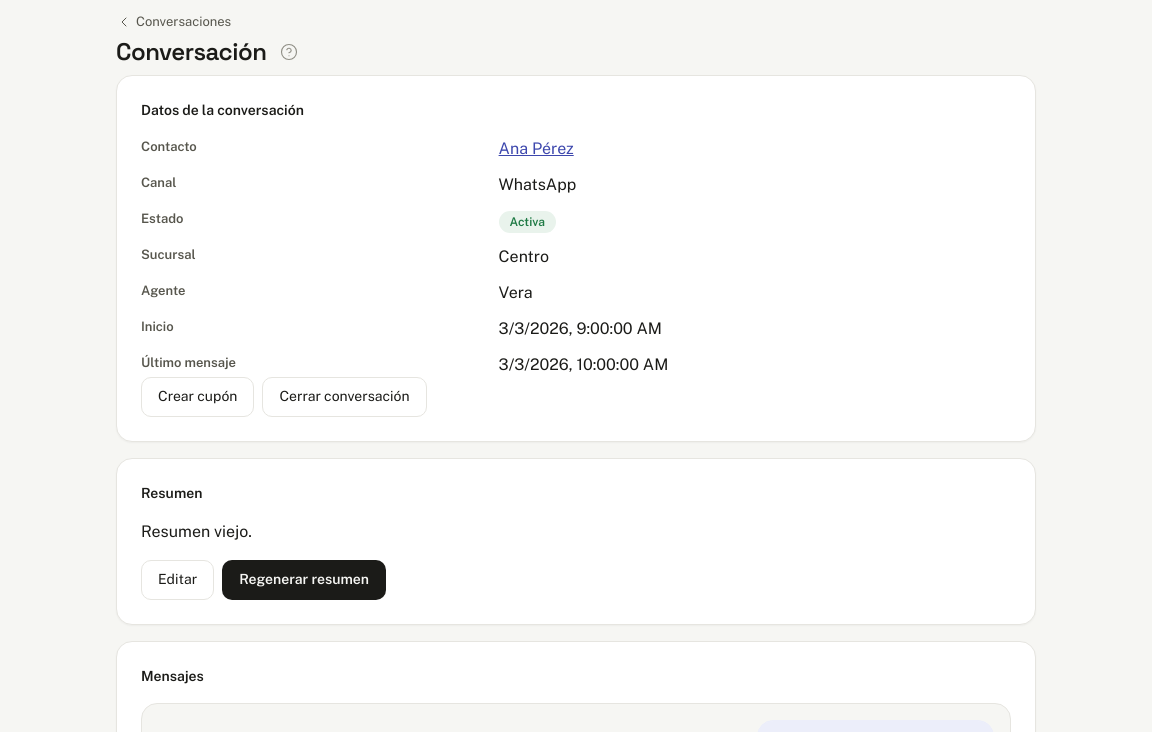
Test: ConversationDetail › guardar el textarea vacío manda null y vuelve a ofrecer generarlo
Click the button "Editar" at (178, 580), box left=141, top=560, right=214, bottom=600
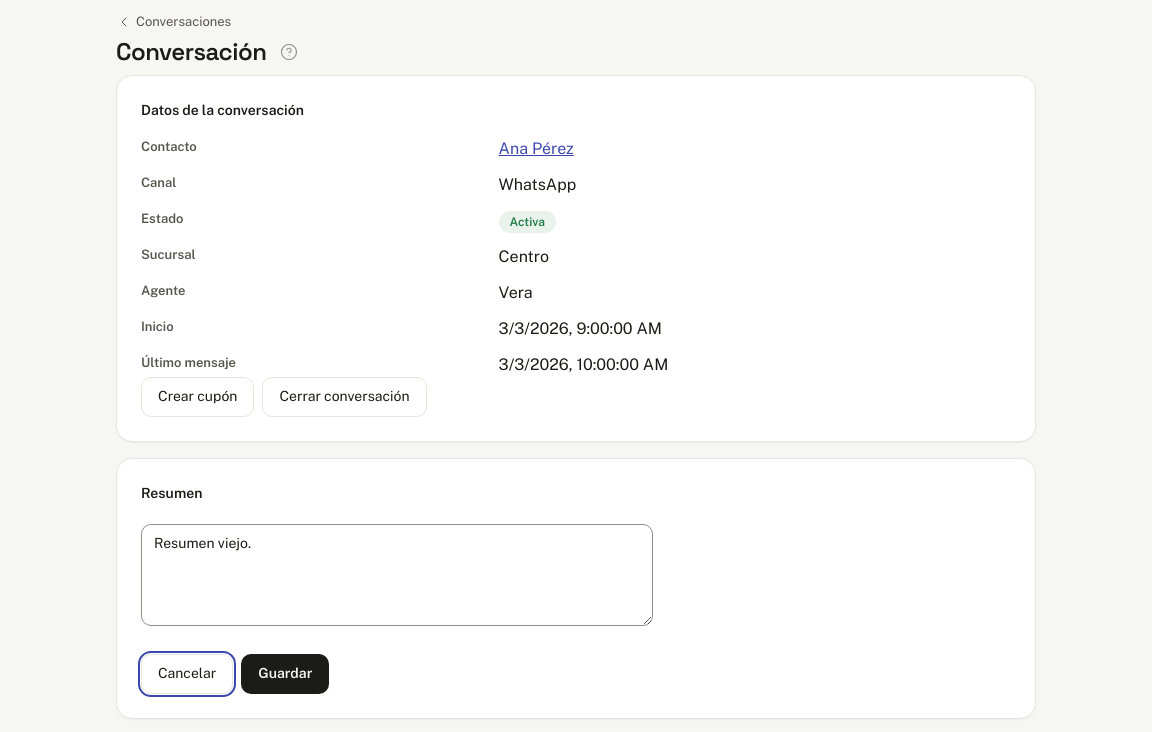
Clear the text box named "Resumen de la conversación" at (397, 575), box left=141, top=524, right=653, bottom=626
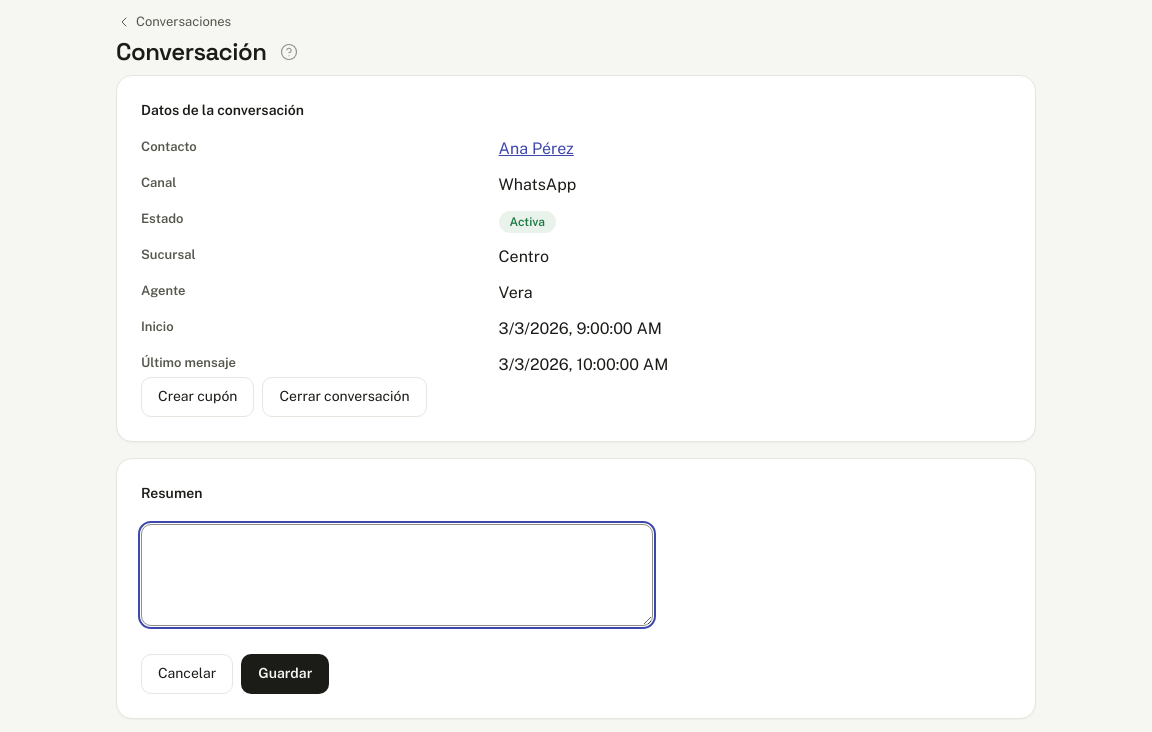
Click the button "Guardar" at (285, 674), box left=241, top=654, right=329, bottom=694
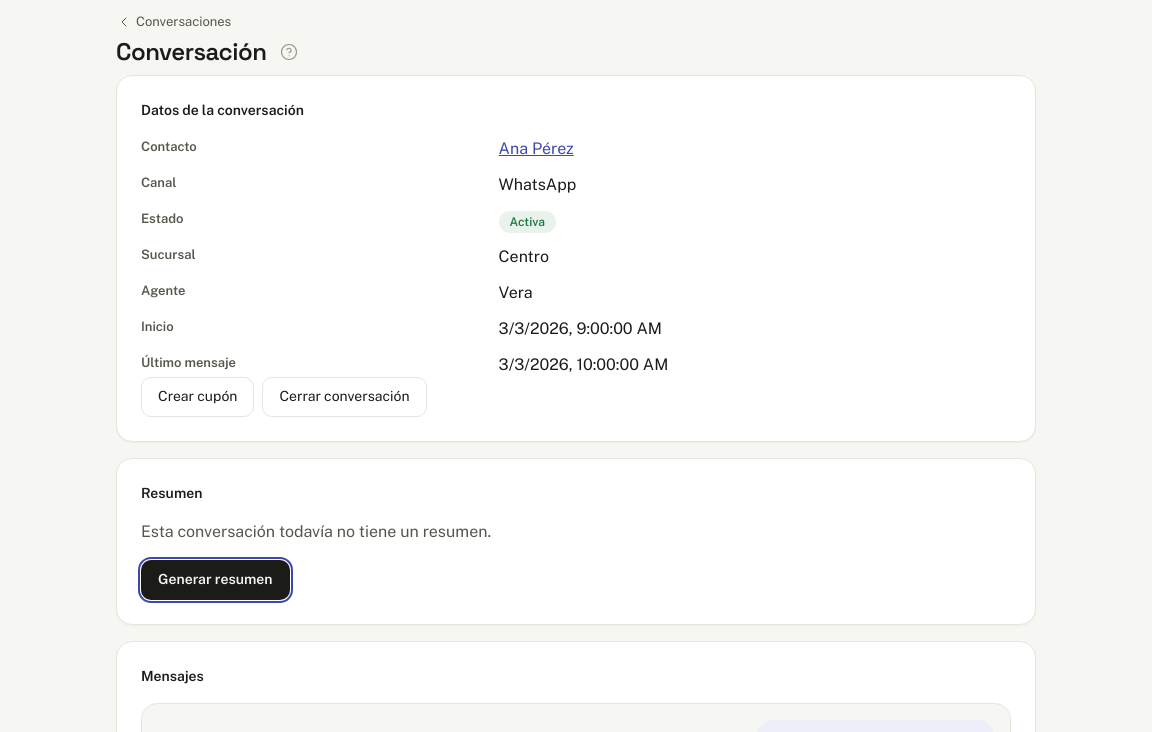
Check: the button "Generar resumen" is shown, box left=141, top=560, right=290, bottom=600
